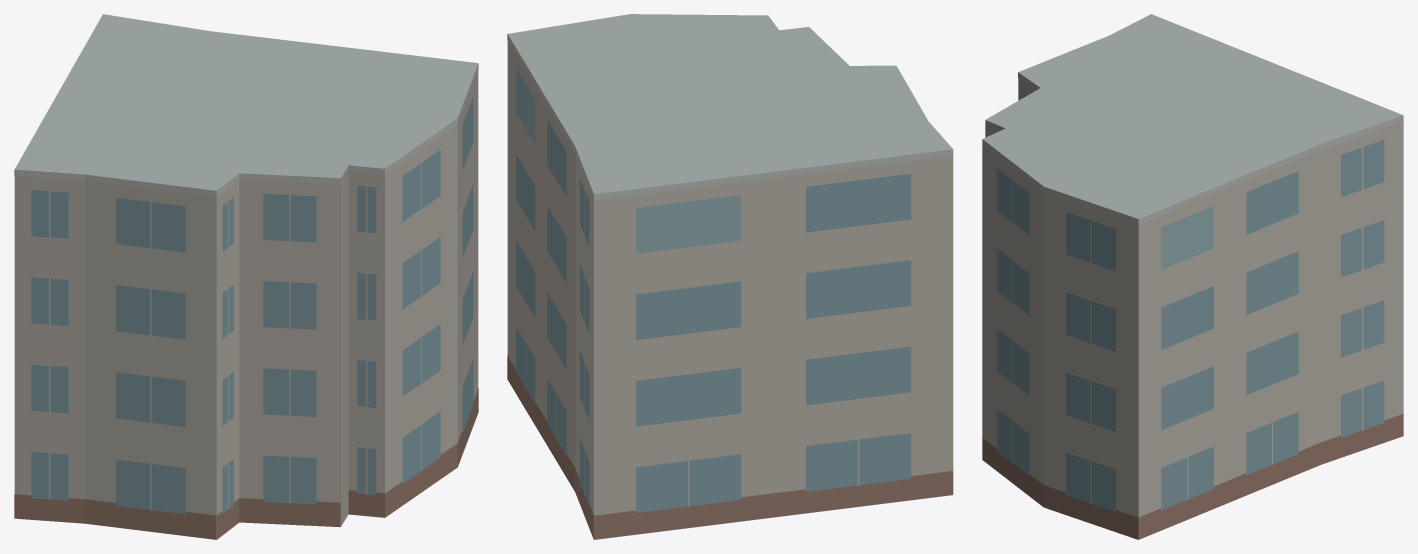
Rendered from survey-upis-32881494.glb.
The picture shows the model from 3 angles, left to right: view 1: azimuth 30°, elevation 25°; view 2: azimuth 150°, elevation 25°; view 3: azimuth 270°, elevation 25°; orthographic projection. The views are drawn at different scales.
Parts seen in each view (by area): view 1: survey-upis-32881494.tmp; view 2: survey-upis-32881494.tmp; view 3: survey-upis-32881494.tmp.
Boxes of the visible parts, x1,y1,x2,y2 form: survey-upis-32881494.tmp: (14, 14, 478, 539); survey-upis-32881494.tmp: (507, 14, 953, 539); survey-upis-32881494.tmp: (982, 14, 1403, 539).
Bounding box in the file's own units: 18.1 × 13.2 × 15.71.
